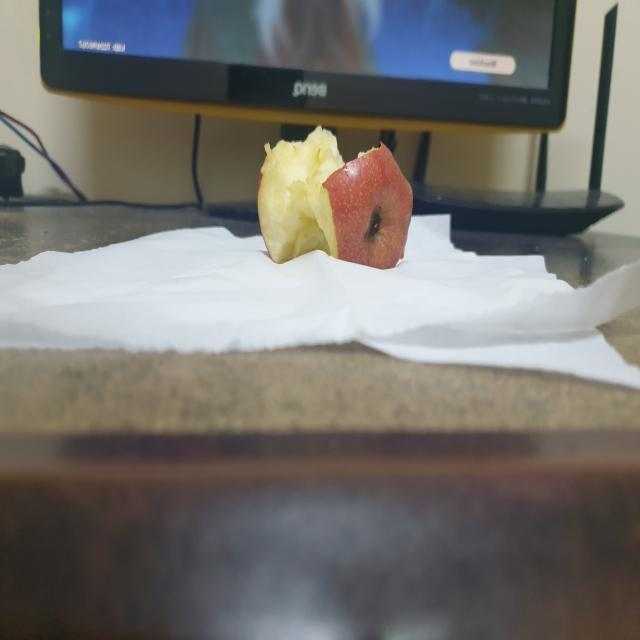apple: (255, 118, 418, 276)
